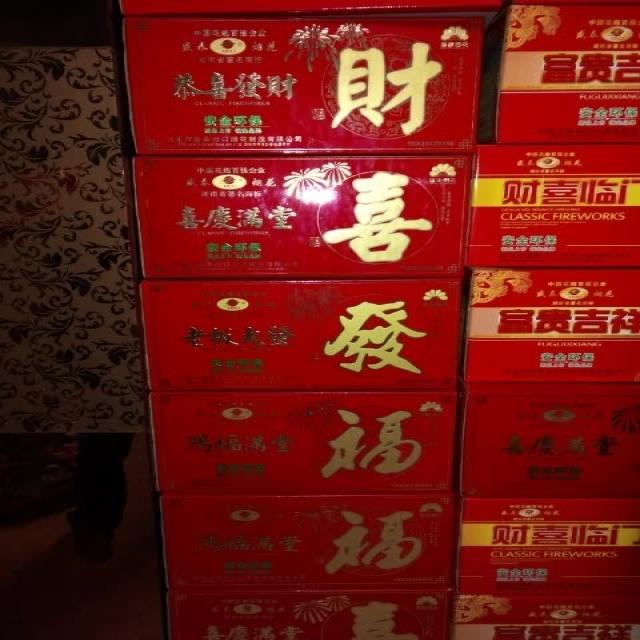box: (124, 18, 483, 155), (132, 156, 472, 280), (137, 278, 471, 392), (143, 392, 459, 492), (160, 492, 459, 588), (463, 143, 640, 266), (487, 3, 640, 143), (456, 382, 640, 496), (461, 267, 640, 381), (453, 495, 640, 595), (167, 588, 452, 640), (121, 0, 503, 29), (455, 593, 640, 640)
